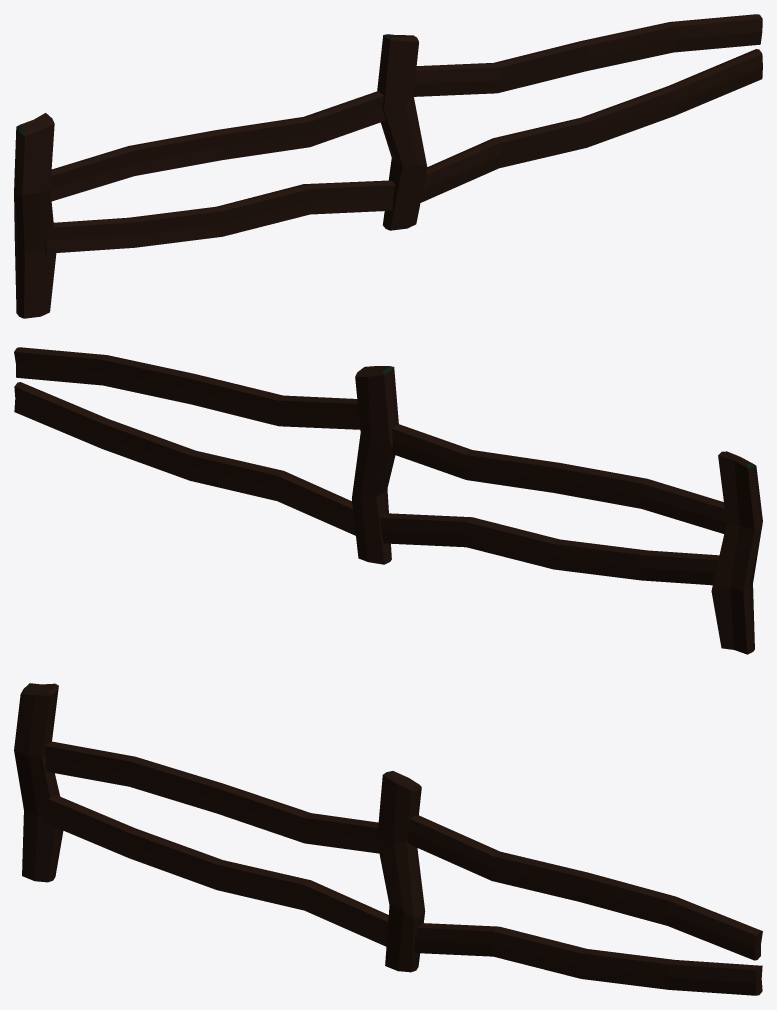
The model's file is Fence_FBX.fbx.
3 views of the same model, one above another, from view 1: azimuth 30°, elevation 25°; view 2: azimuth 150°, elevation 25°; view 3: azimuth 330°, elevation 25° (orthographic).
Visible parts, largest first — view 1: FencePlank004, FencePlank003, FencePlank002, FencePlank001, FencePost01, FencePost002; view 2: FencePlank004, FencePlank003, FencePlank001, FencePlank002, FencePost01, FencePost002; view 3: FencePlank003, FencePlank002, FencePlank004, FencePlank001, FencePost002, FencePost01.
Part boxes in pixels (x1,y1,x2,y2): FencePlank004: (420, 49, 762, 202); FencePlank003: (413, 14, 762, 96); FencePlank002: (45, 180, 395, 253); FencePlank001: (50, 91, 386, 201); FencePost01: (14, 113, 56, 318); FencePost002: (377, 34, 427, 230); FencePlank004: (14, 382, 355, 535); FencePlank003: (14, 347, 360, 429); FencePlank001: (391, 424, 728, 533); FencePlank002: (380, 513, 719, 585); FencePost01: (711, 451, 762, 654); FencePost002: (351, 366, 398, 564); FencePlank003: (407, 815, 762, 960); FencePlank002: (41, 795, 388, 946); FencePlank004: (413, 923, 762, 995); FencePlank001: (45, 741, 379, 853); FencePost002: (377, 771, 425, 972); FencePost01: (14, 683, 63, 882).
Size of the model in its own units: 567 by 142 by 22.06.
